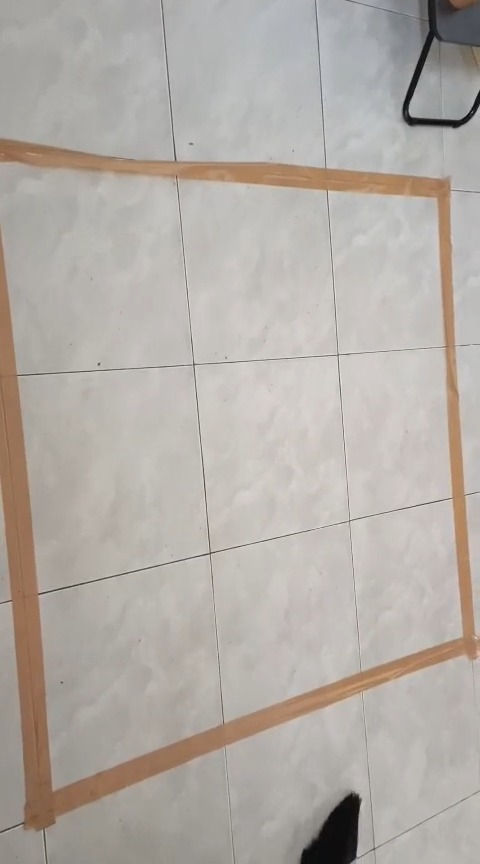floor marking: (0, 139, 479, 827)
